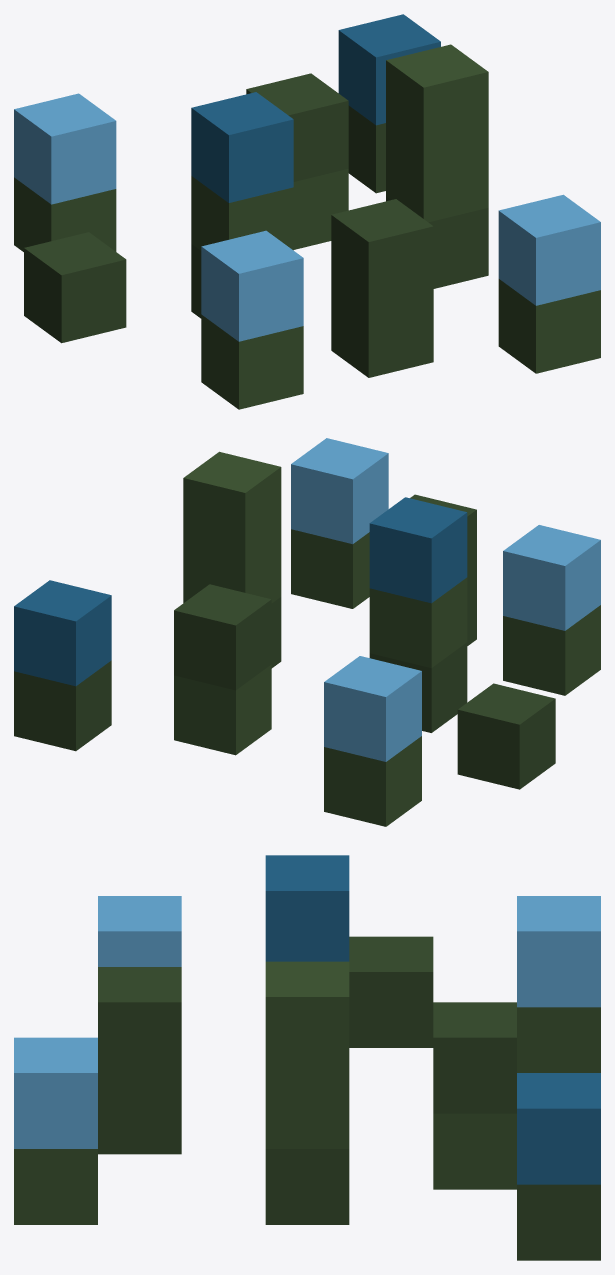
Rendered from foliage_grass_bloom_blue.glb.
3 views of the same model, one above another, from view 1: azimuth 30°, elevation 25°; view 2: azimuth 150°, elevation 25°; view 3: azimuth 270°, elevation 25° (orthographic). The views are drawn at different scales.
Parts seen in each view (by area): view 1: foliage_grass_bloom_blue; view 2: foliage_grass_bloom_blue; view 3: foliage_grass_bloom_blue.
Part boxes in pixels (<box>): foliage_grass_bloom_blue: <box>14,14,600,409</box>; foliage_grass_bloom_blue: <box>14,438,600,826</box>; foliage_grass_bloom_blue: <box>14,855,600,1260</box>.
Size of the model in its own units: 1.05 by 0.45 by 1.05.
Materials: 1 (1 with a texture image).
